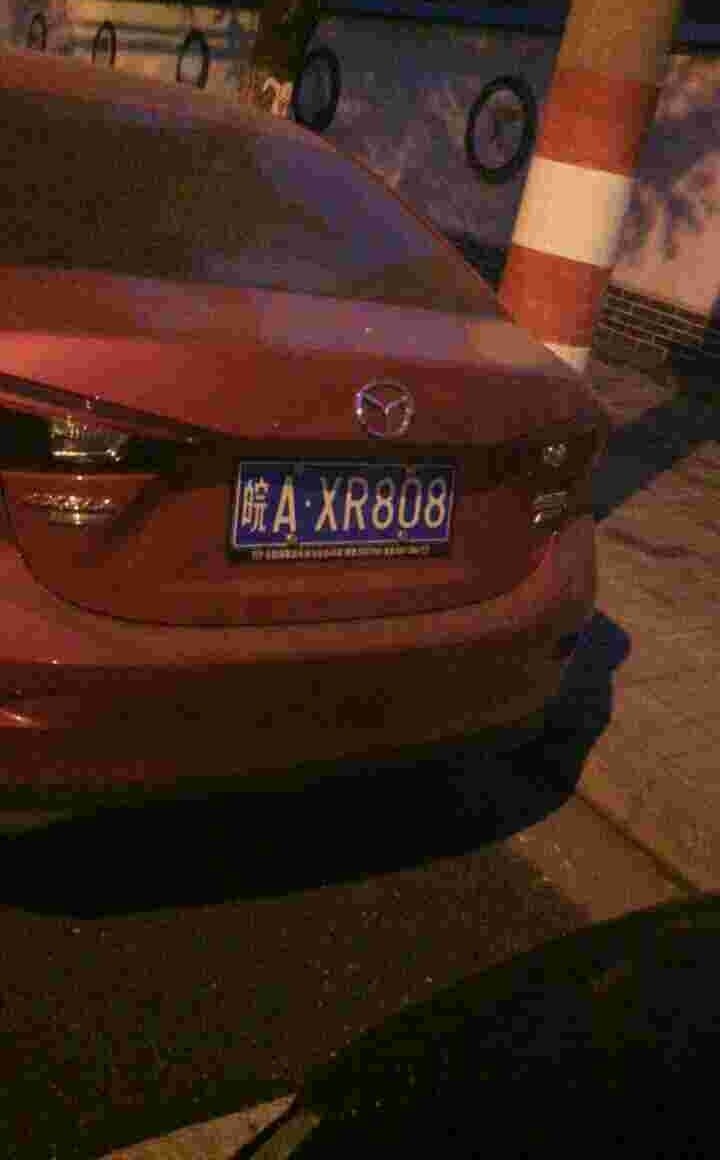license_plate: (234, 462, 458, 553)
